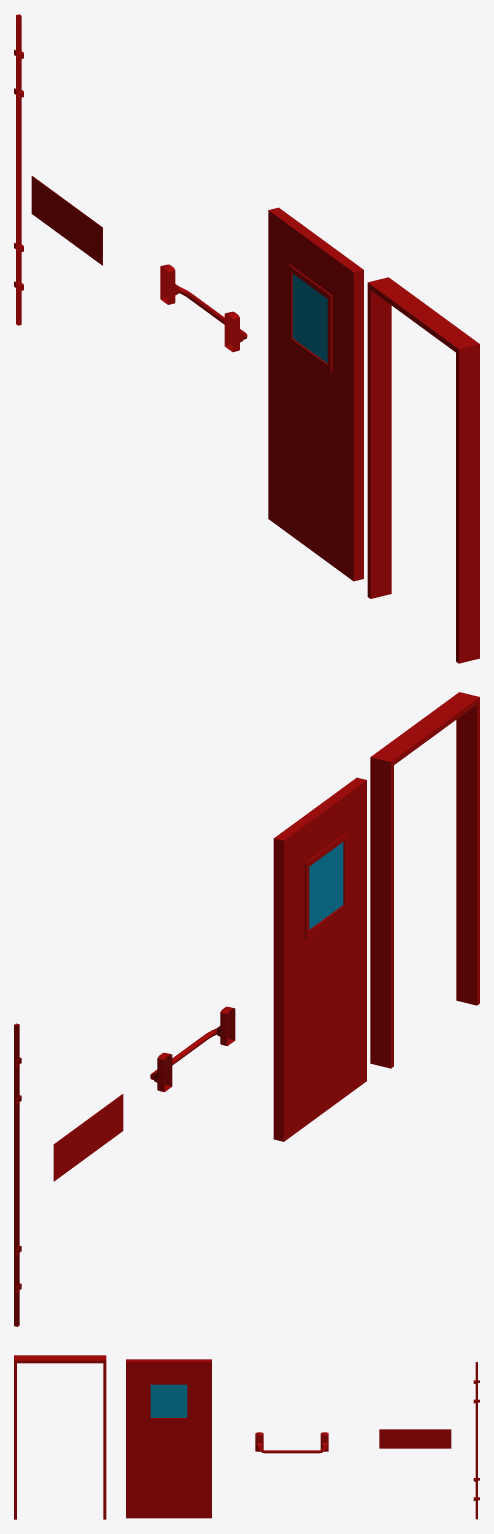
The picture shows the model from 3 angles, top to bottom: view 1: azimuth 30°, elevation 25°; view 2: azimuth 150°, elevation 25°; view 3: azimuth 270°, elevation 25°; orthographic projection. The views are drawn at different scales.
Visible parts, largest first — view 1: Door_low, DoorFrame_low, HandleBack_low, Glass_low, Bar_low, Handle_low, GlassFrame_low; view 2: Door_low, DoorFrame_low, HandleBack_low, Glass_low, Bar_low, Handle_low, GlassFrame_low; view 3: Door_low, DoorFrame_low, HandleBack_low, Glass_low, Handle_low, GlassFrame_low, Bar_low.
Boxes of the visible parts, x1,y1,x2,y2 form: Door_low: (268,207,363,581); DoorFrame_low: (367,277,479,663); HandleBack_low: (31,176,102,265); Glass_low: (292,274,327,363); Bar_low: (16,14,21,325); Handle_low: (160,264,247,352); GlassFrame_low: (288,264,332,372); Door_low: (273,777,366,1141); DoorFrame_low: (370,692,479,1068); HandleBack_low: (53,1094,123,1181); Glass_low: (309,842,343,929); Bar_low: (14,1023,19,1326); Handle_low: (150,1006,235,1092); GlassFrame_low: (304,833,347,938); Door_low: (126,1359,211,1518); DoorFrame_low: (14,1355,106,1519); HandleBack_low: (379,1429,451,1448); Glass_low: (150,1384,187,1417); Handle_low: (255,1432,328,1453); GlassFrame_low: (147,1381,190,1420); Bar_low: (475,1362,477,1519).
Size of the model in its own units: 0.3301 by 2.85 by 7.57.
